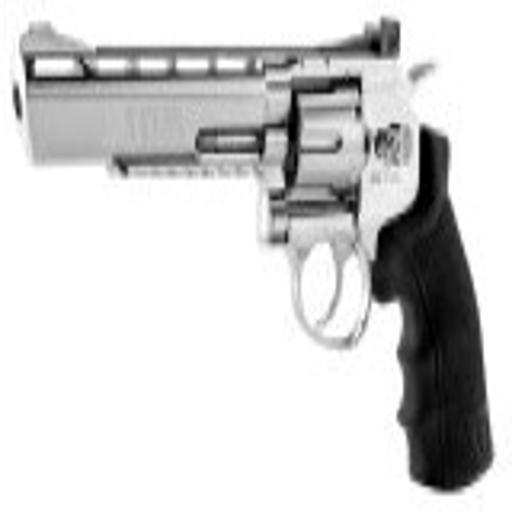Handgun: (2, 11, 498, 498)
